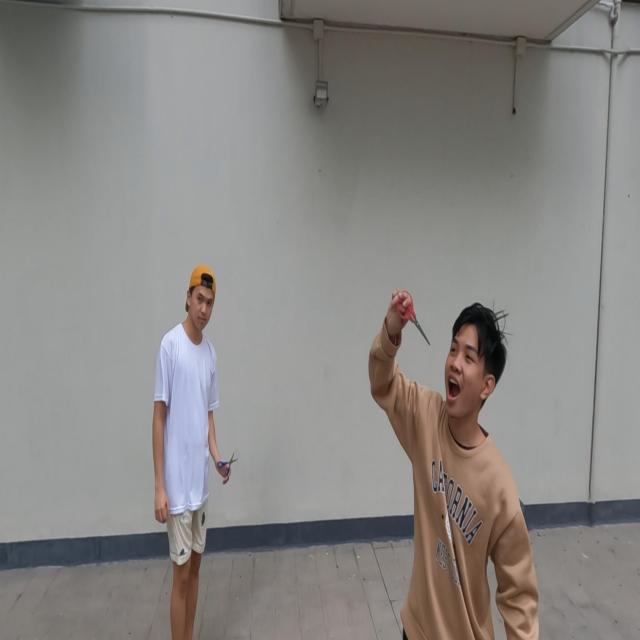scissor: (396, 289, 431, 348), (216, 451, 238, 481)
